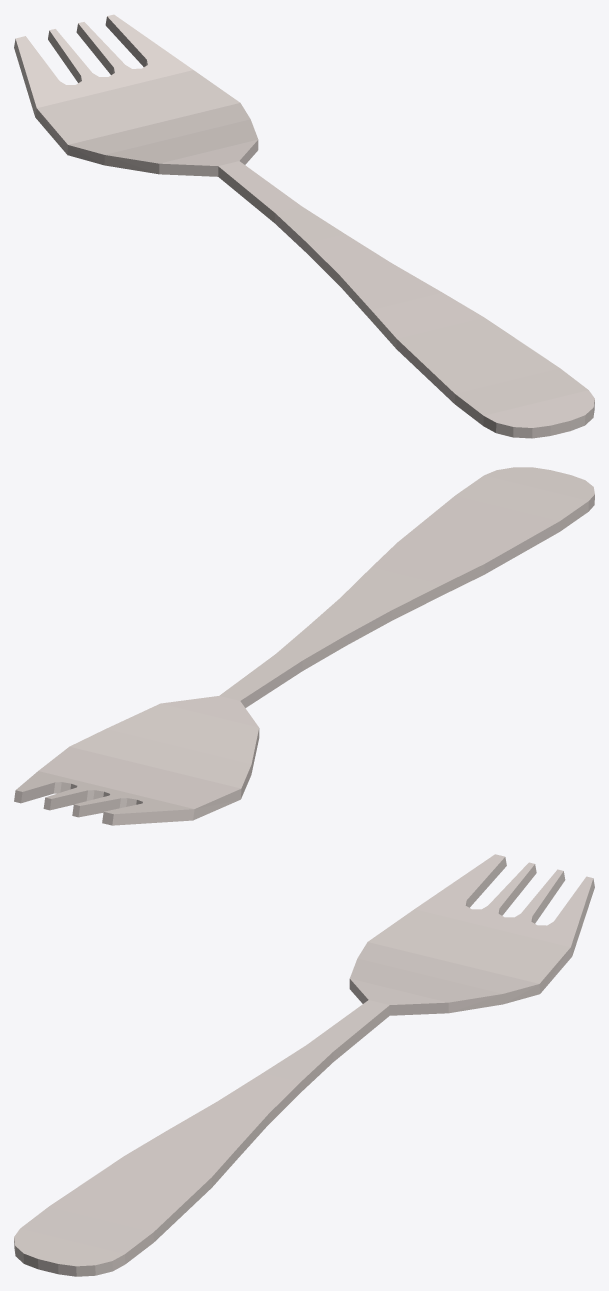
Rendered from Fork.fbx.
3 renders of one model, top to bottom at view 1: azimuth 30°, elevation 25°; view 2: azimuth 150°, elevation 25°; view 3: azimuth 330°, elevation 25°, orthographic.
Visible parts, largest first — view 1: Fork; view 2: Fork; view 3: Fork.
Boxes of the visible parts, box(x1,y1,x2,y2) form: Fork: box(14, 14, 594, 438); Fork: box(14, 467, 594, 825); Fork: box(14, 854, 594, 1276).
Size of the model in its own units: 5.15 by 1.24 by 25.79.
